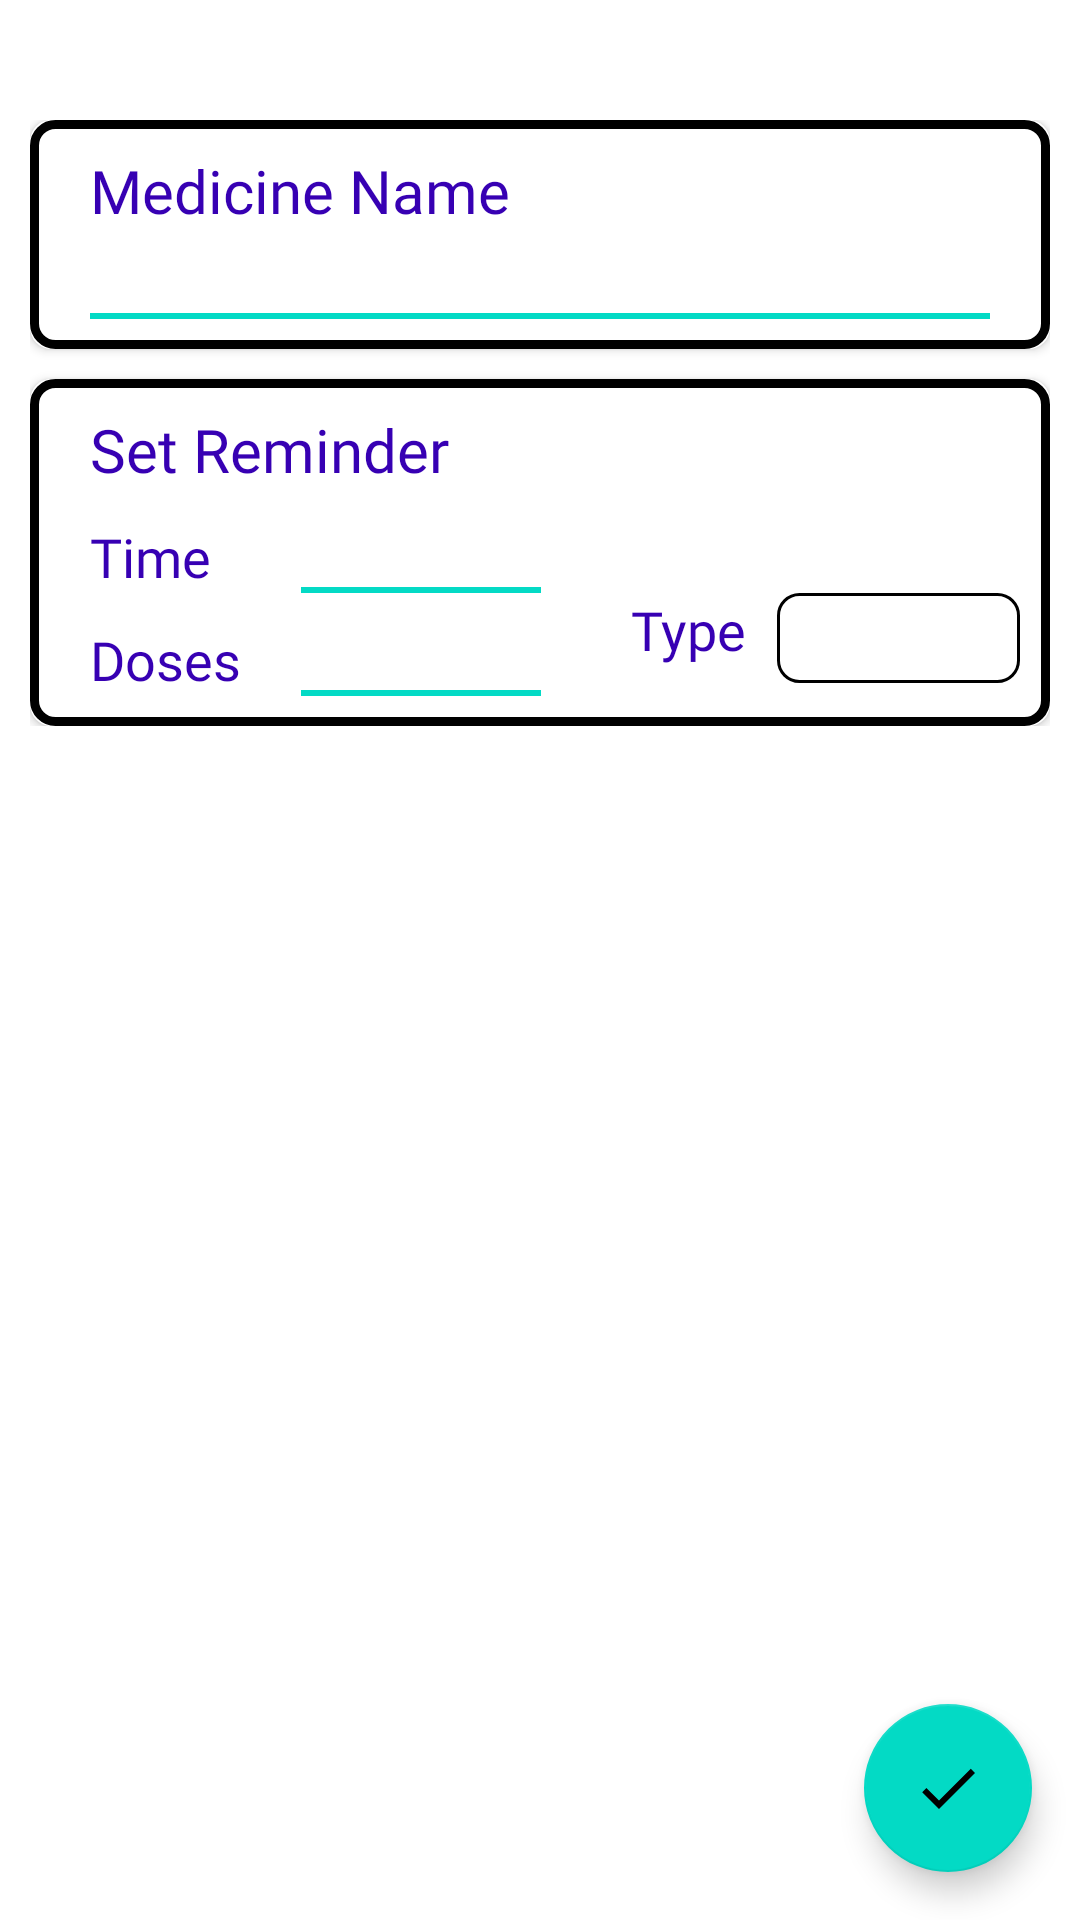

Where to tap for icons on this 1080px x 1920px app screen, as point (x, y):
done: point (948, 1788)
